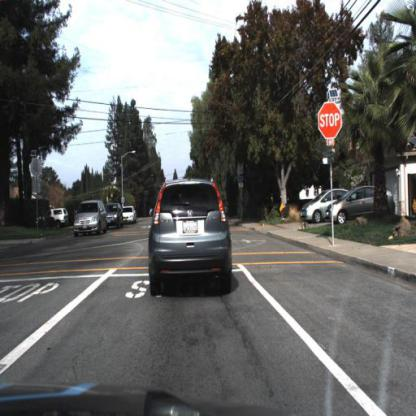car: (143, 166, 238, 315), (322, 182, 397, 230), (72, 189, 109, 244), (301, 185, 348, 225), (296, 190, 330, 227), (105, 200, 124, 232), (46, 205, 70, 230), (124, 203, 140, 229)
